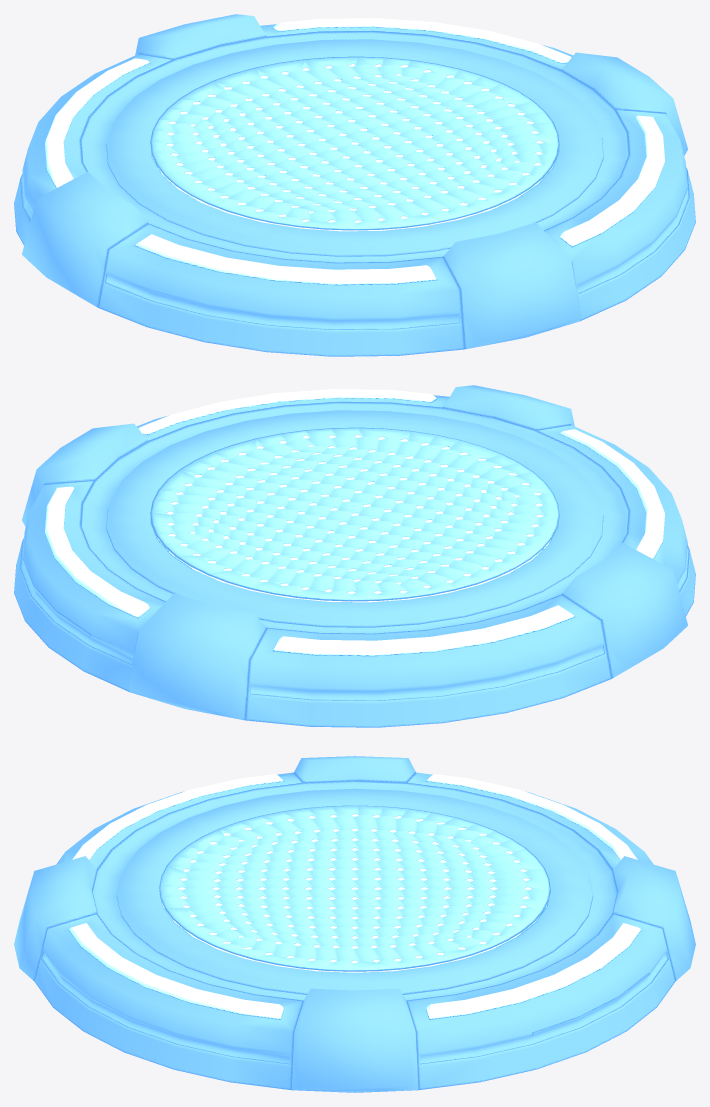
File: tech_pedestal.glb
The picture shows the model from 3 angles, top to bottom: view 1: azimuth 30°, elevation 25°; view 2: azimuth 150°, elevation 25°; view 3: azimuth 270°, elevation 25°; orthographic projection. The views are drawn at different scales.
Parts seen in each view (by area): view 1: tech_pedestal; view 2: tech_pedestal; view 3: tech_pedestal.
Part boxes in pixels (left/top/right/bottom): tech_pedestal: left=14, top=14, right=695, bottom=356; tech_pedestal: left=14, top=385, right=695, bottom=727; tech_pedestal: left=14, top=756, right=695, bottom=1092.
Bounding box in the file's own units: 24.79 × 3.21 × 24.79.
Materials: 1 (1 with a texture image).
